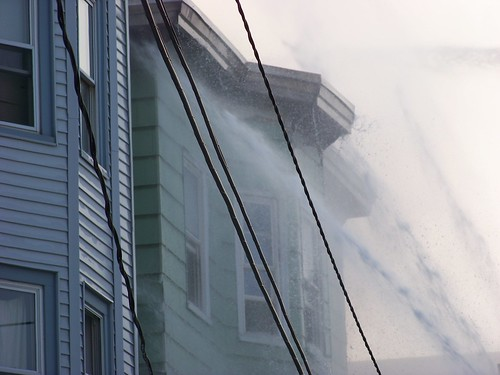building: (135, 4, 358, 375), (1, 5, 136, 375)
